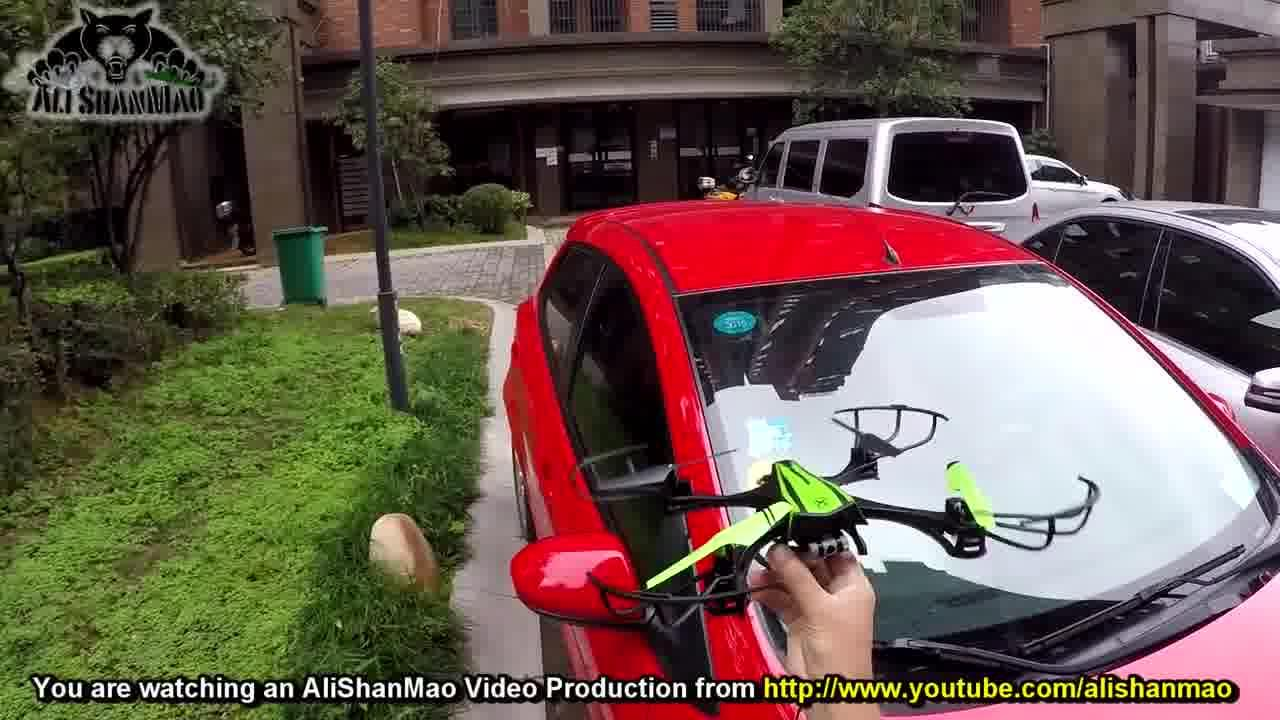Drone: (561, 419, 1105, 625)
